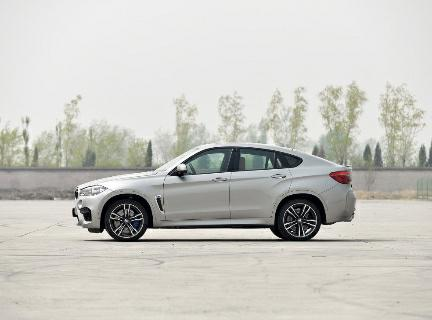宝马-X6M: (62, 137, 360, 250)
